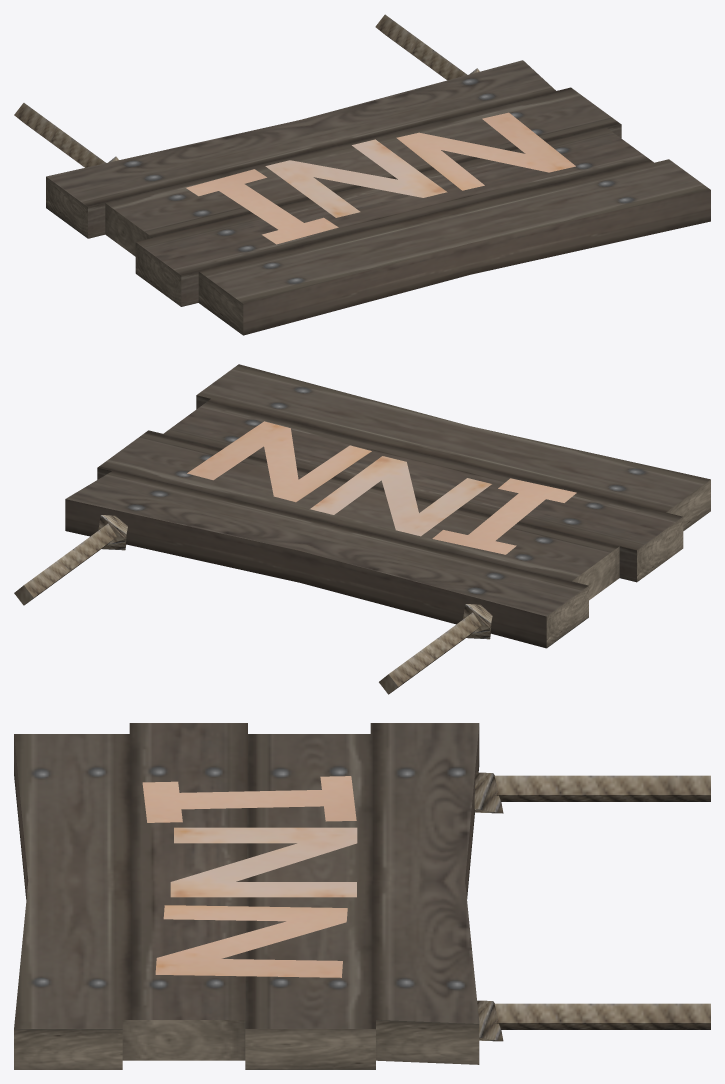
File: Sign_Inn.fbx
The picture shows the model from 3 angles, top to bottom: view 1: azimuth 30°, elevation 25°; view 2: azimuth 150°, elevation 25°; view 3: azimuth 270°, elevation 25°; orthographic projection. The views are drawn at different scales.
Visible parts, largest first — view 1: Sign_Inn; view 2: Sign_Inn; view 3: Sign_Inn.
Boxes of the visible parts, <box> form: Sign_Inn: <box>14,14,710,335</box>; Sign_Inn: <box>14,364,710,694</box>; Sign_Inn: <box>14,723,710,1069</box>.
Bounding box in the file's own units: 1.9 × 0.1603 × 1.83.
